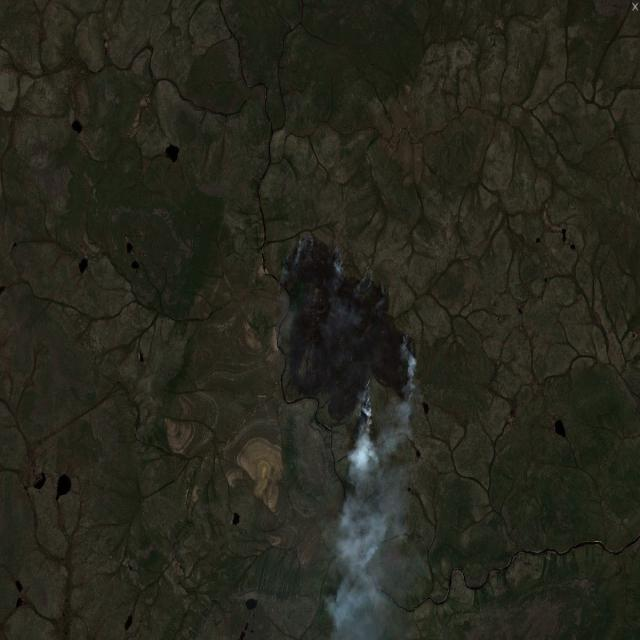fire: (274, 225, 421, 454)
